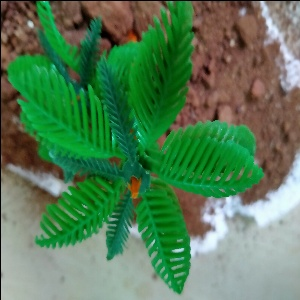plant: (11, 3, 260, 287)
